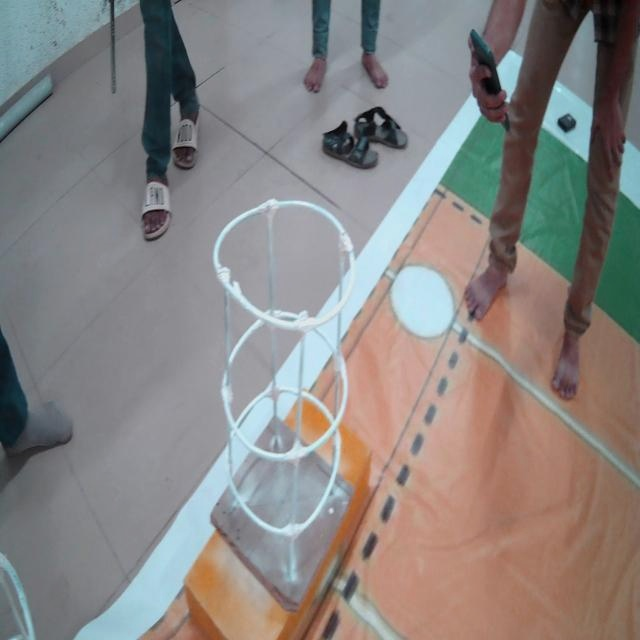silo: (220, 204, 357, 601)
